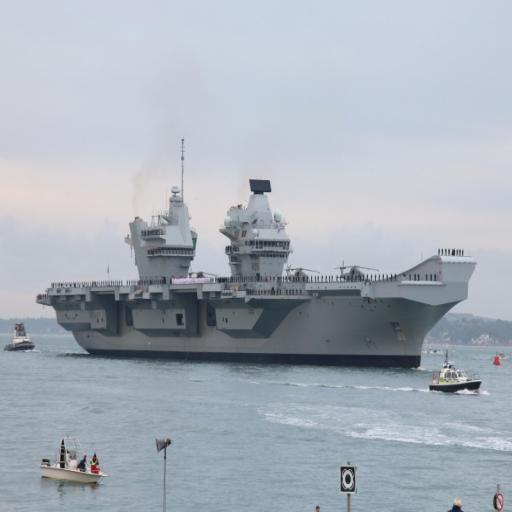Portanaves: (29, 147, 484, 365)
